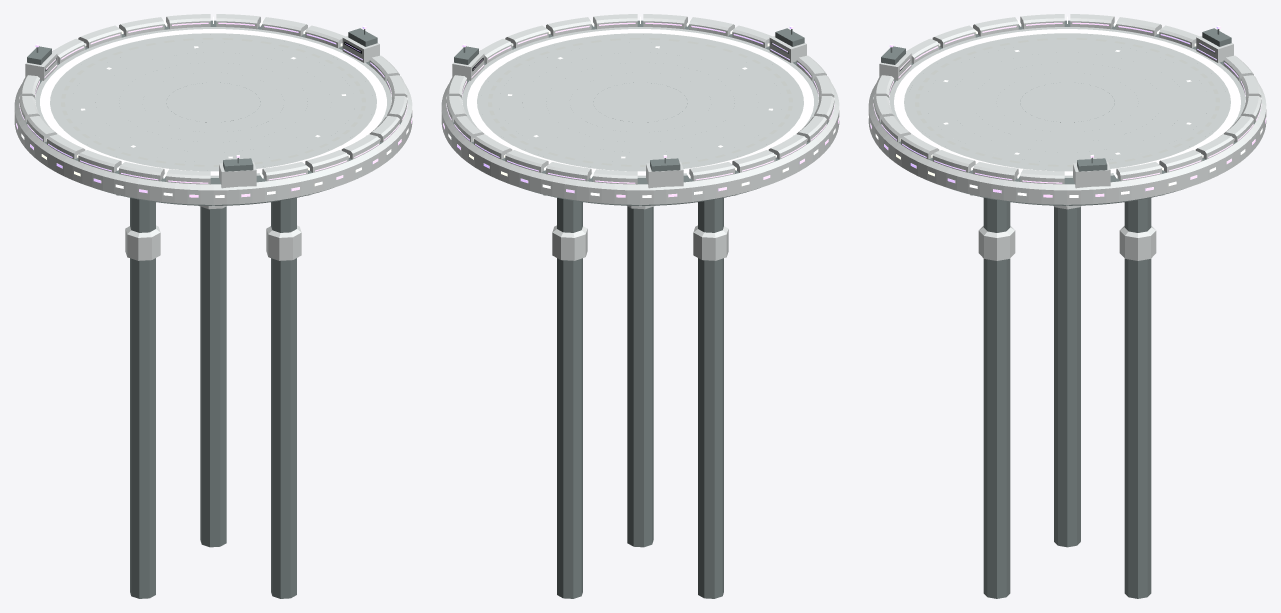
Rendered from plataforma-servico.glb.
The picture shows the model from 3 angles, left to right: view 1: azimuth 30°, elevation 25°; view 2: azimuth 150°, elevation 25°; view 3: azimuth 270°, elevation 25°; orthographic projection.
Parts seen in each view (by area): view 1: plataforma-servico_deque, plataforma-servico_pilares, plataforma-servico_aro, plataforma-servico_casco, plataforma-servico_sinalizacao, plataforma-servico_torres, plataforma-servico_luzes; view 2: plataforma-servico_deque, plataforma-servico_pilares, plataforma-servico_aro, plataforma-servico_casco, plataforma-servico_sinalizacao, plataforma-servico_torres, plataforma-servico_luzes; view 3: plataforma-servico_deque, plataforma-servico_pilares, plataforma-servico_aro, plataforma-servico_casco, plataforma-servico_sinalizacao, plataforma-servico_torres, plataforma-servico_luzes.
Boxes of the visible parts, x1=… form: plataforma-servico_deque: x1=35, y1=27, x2=391, y2=177; plataforma-servico_pilares: x1=125, y1=122, x2=301, y2=598; plataforma-servico_aro: x1=19, y1=14, x2=407, y2=184; plataforma-servico_casco: x1=14, y1=20, x2=412, y2=205; plataforma-servico_sinalizacao: x1=40, y1=29, x2=386, y2=175; plataforma-servico_torres: x1=25, y1=28, x2=379, y2=188; plataforma-servico_luzes: x1=14, y1=16, x2=412, y2=197; plataforma-servico_deque: x1=462, y1=27, x2=818, y2=177; plataforma-servico_pilares: x1=552, y1=122, x2=728, y2=598; plataforma-servico_aro: x1=446, y1=14, x2=834, y2=184; plataforma-servico_casco: x1=441, y1=20, x2=839, y2=205; plataforma-servico_sinalizacao: x1=467, y1=29, x2=813, y2=175; plataforma-servico_torres: x1=452, y1=28, x2=806, y2=188; plataforma-servico_luzes: x1=441, y1=16, x2=839, y2=197; plataforma-servico_deque: x1=889, y1=27, x2=1245, y2=177; plataforma-servico_pilares: x1=978, y1=122, x2=1156, y2=598; plataforma-servico_aro: x1=873, y1=14, x2=1261, y2=184; plataforma-servico_casco: x1=868, y1=20, x2=1266, y2=205; plataforma-servico_sinalizacao: x1=894, y1=29, x2=1240, y2=175; plataforma-servico_torres: x1=879, y1=28, x2=1233, y2=188; plataforma-servico_luzes: x1=868, y1=16, x2=1266, y2=197.
Bounding box in the file's own units: 47.29 × 65.51 × 47.29.
